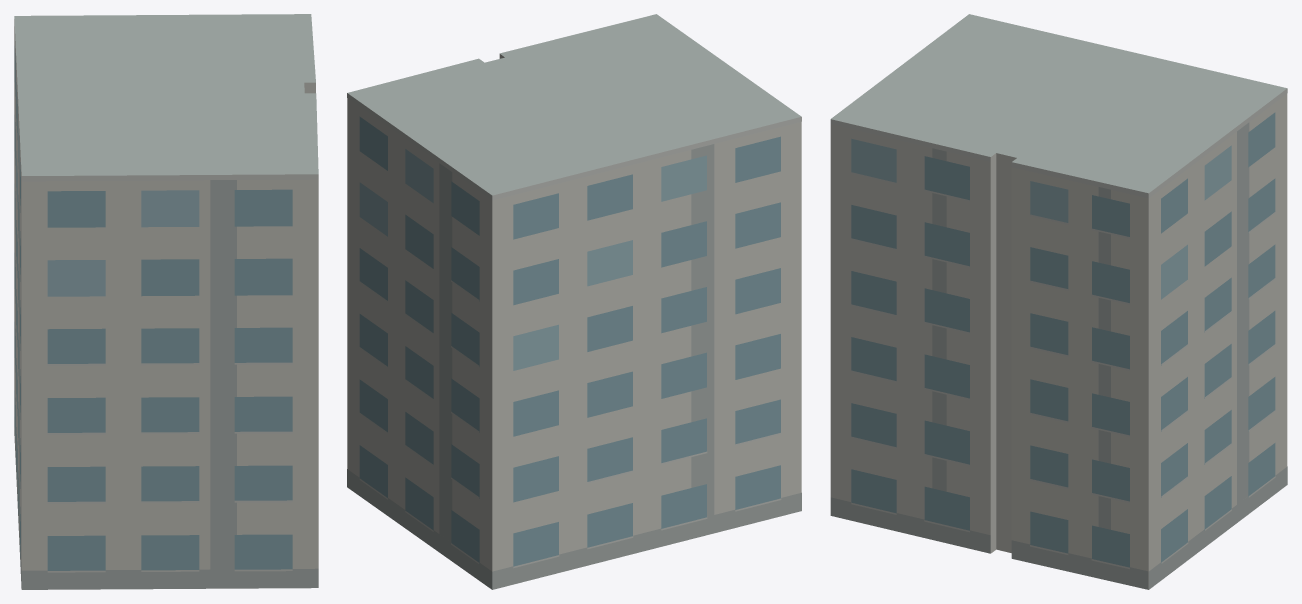
Rendered from survey-upis-32877643.glb.
3 views of the same model, side by side, from view 1: azimuth 30°, elevation 25°; view 2: azimuth 150°, elevation 25°; view 3: azimuth 270°, elevation 25° (orthographic). The views are drawn at different scales.
Visible parts, largest first — view 1: survey-upis-32877643.tmp; view 2: survey-upis-32877643.tmp; view 3: survey-upis-32877643.tmp.
Boxes of the visible parts, x1=… form: survey-upis-32877643.tmp: x1=14, y1=14, x2=318, y2=589; survey-upis-32877643.tmp: x1=347, y1=14, x2=801, y2=589; survey-upis-32877643.tmp: x1=830, y1=14, x2=1287, y2=589.
Bounding box in the file's own units: 18.91 × 19.5 × 20.37.
